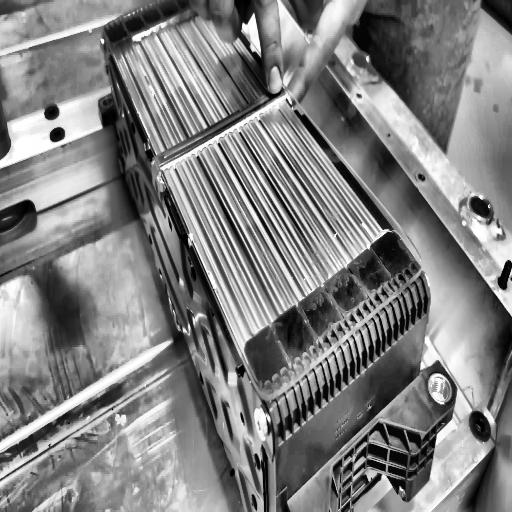battery_module: (102, 0, 428, 416)
